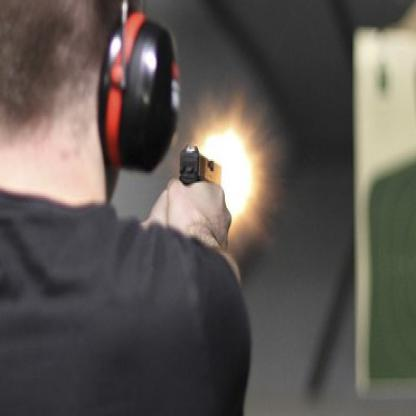gun: (170, 142, 230, 226)
